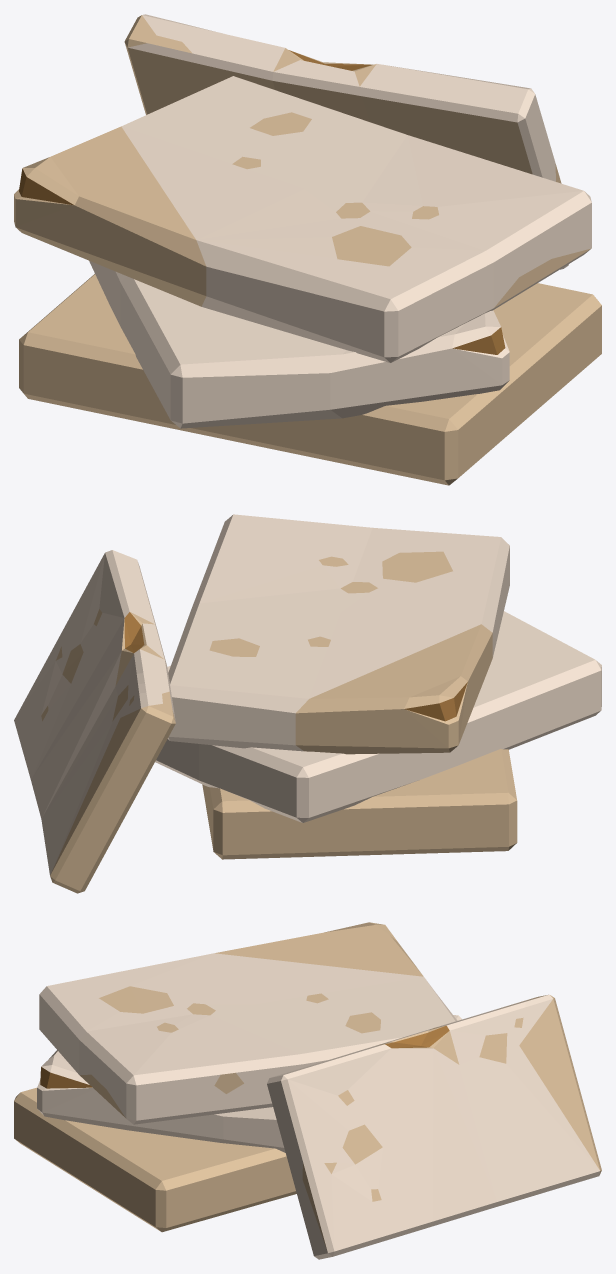
File: apocalypse-mattress-pile-apocalypse.glb
3 renders of one model, top to bottom at view 1: azimuth 30°, elevation 25°; view 2: azimuth 150°, elevation 25°; view 3: azimuth 270°, elevation 25°, orthographic. The views are drawn at different scales.
Parts seen in each view (by area): view 1: mattress-pile-apocalypse; view 2: mattress-pile-apocalypse; view 3: mattress-pile-apocalypse.
Boxes of the visible parts, x1,y1,x2,y2 form: mattress-pile-apocalypse: (14, 14, 601, 485); mattress-pile-apocalypse: (14, 514, 601, 893); mattress-pile-apocalypse: (14, 922, 601, 1259).
Bounding box in the file's own units: 2.66 × 0.9636 × 3.12.
